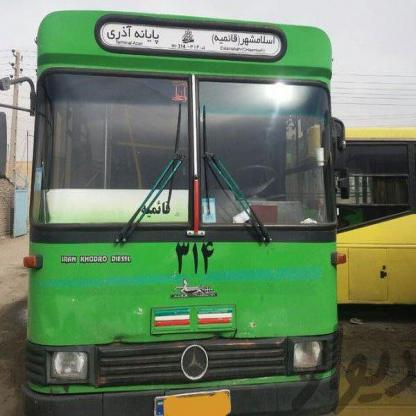Bus: (19, 0, 343, 416), (338, 119, 416, 312)
